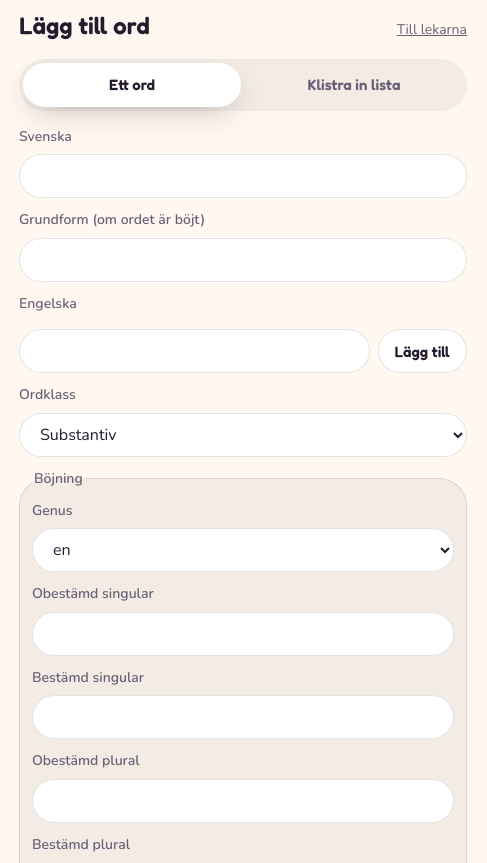
Test: Add › drops the chip as soon as a form field is edited
The width and height of the screenshot is (487, 863).
Select "Verb" in the dropdown labelled "Ordklass" at (243, 435), box [19,413,467,457]
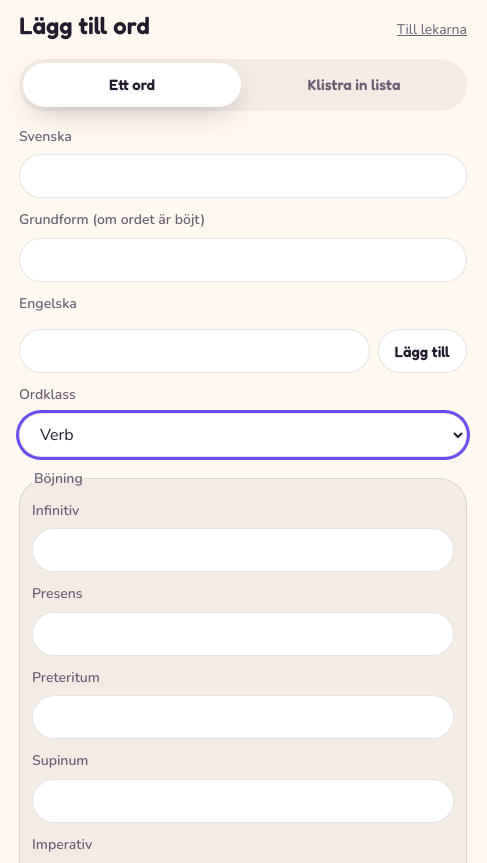
Type "tala" into the field labelled "Svenska".
click(243, 176); type("tala")  # box [19,154,467,198]
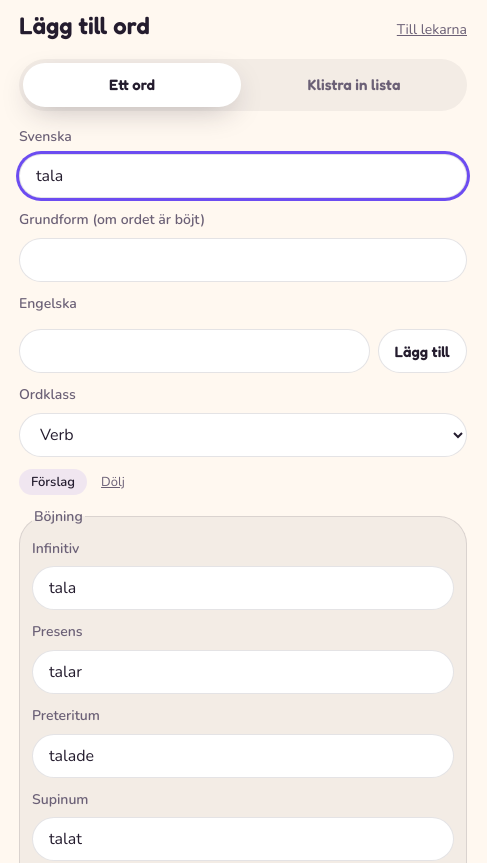
Expected: the text "Förslag" is shown, [19,469,87,495]
Type "x" into the field labelled "Preteritum".
click(243, 756); type("x")  # box [32,734,454,778]
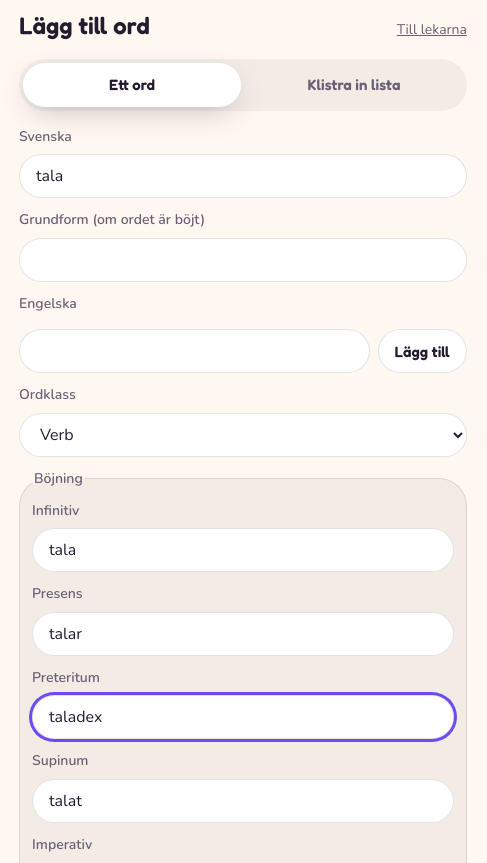
Expected: the text "Förslag" is gone
